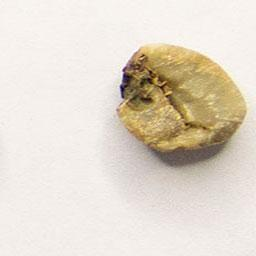defect: (111, 38, 250, 164)
